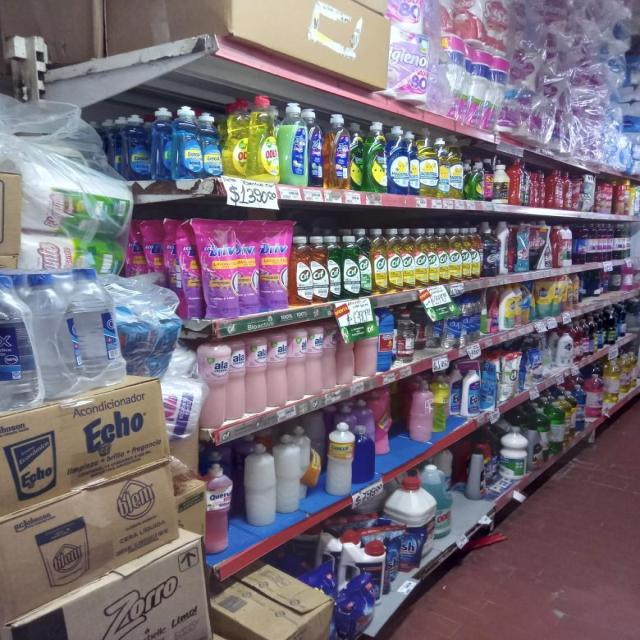ala_crem_rosado: (202, 341, 227, 428), (246, 335, 267, 415), (267, 332, 287, 409), (228, 339, 245, 422), (288, 327, 306, 403), (306, 324, 323, 396), (338, 320, 355, 386), (323, 322, 337, 391)
cif_conc_bot_amarilla: (372, 228, 387, 294), (388, 228, 402, 292), (401, 228, 414, 290), (414, 228, 427, 288), (438, 228, 449, 284), (471, 226, 482, 279), (428, 228, 438, 286), (461, 227, 471, 281), (450, 228, 460, 282)
cif_conc_botella_roja: (290, 235, 311, 306), (310, 235, 328, 303)
cif_conc_botella_verde: (343, 232, 358, 299), (358, 229, 372, 297), (328, 234, 342, 301)
drive: (260, 220, 289, 311)
esencial: (326, 420, 354, 497), (354, 414, 374, 486)
magistral_con_amarillo: (419, 132, 438, 198), (448, 140, 464, 199), (439, 137, 450, 199)
magistral_con_azul: (388, 125, 409, 194), (203, 110, 223, 177), (408, 128, 419, 196)
zorro: (280, 103, 307, 186), (325, 113, 349, 189), (308, 108, 323, 187)
